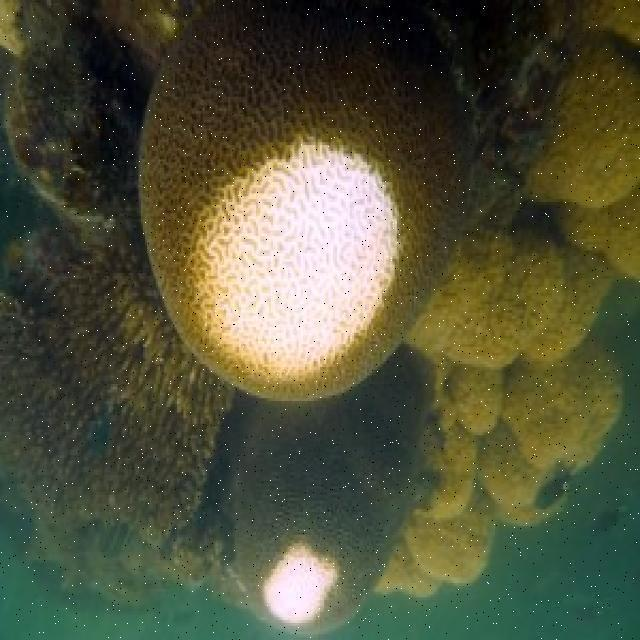Bleached: (530, 47, 640, 232), (448, 230, 579, 372), (510, 344, 632, 474), (412, 486, 502, 593)
Healthy: (142, 29, 475, 409), (1, 242, 232, 560), (227, 385, 416, 626)
